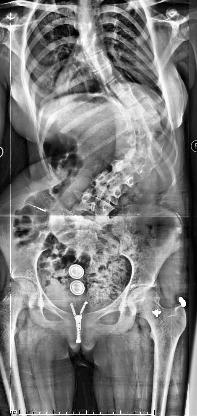Vertebrae: (119, 150, 163, 174), (76, 192, 116, 218), (128, 132, 170, 156), (90, 173, 132, 195), (114, 86, 150, 107), (80, 52, 114, 74), (130, 114, 164, 136), (124, 100, 156, 122), (110, 161, 144, 181), (91, 65, 123, 85), (103, 76, 134, 96), (76, 40, 106, 58), (76, 34, 106, 50), (74, 6, 102, 22), (72, 19, 100, 33)
